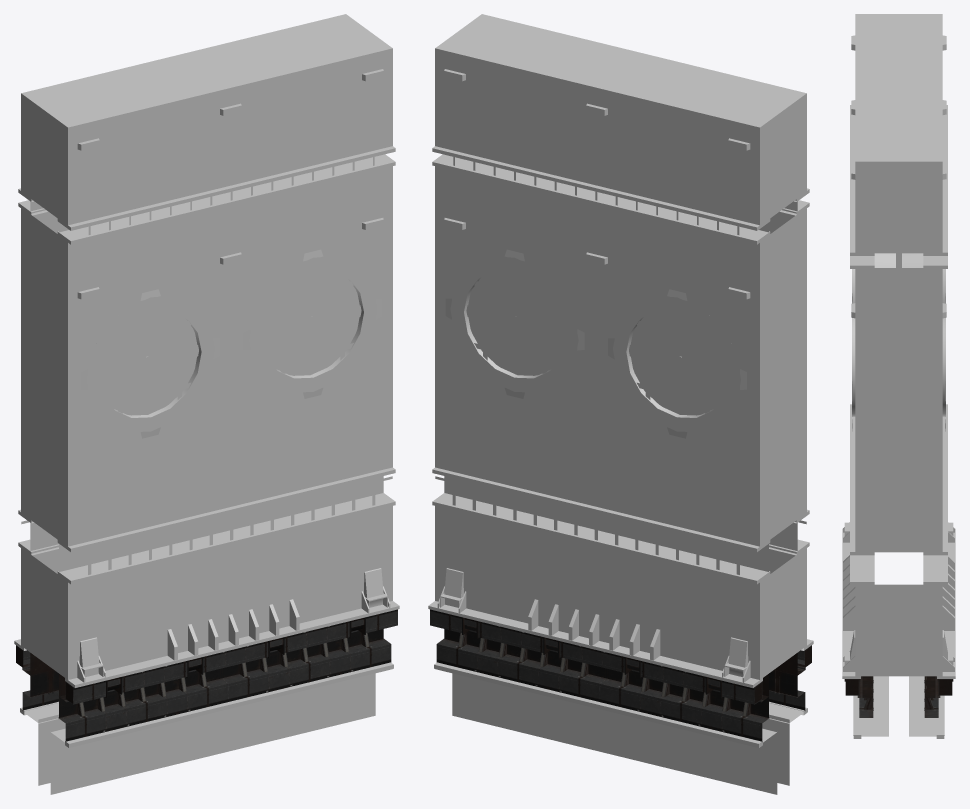
The model's file is Wall_Large_09_LOD2.fbx.
The picture shows the model from 3 angles, left to right: view 1: azimuth 30°, elevation 25°; view 2: azimuth 150°, elevation 25°; view 3: azimuth 270°, elevation 25°; orthographic projection. The views are drawn at different scales.
Visible parts, largest first — view 1: Concrete_Blocks, Element1, Element3, Element5, Vents, Grid, Element4; view 2: Concrete_Blocks, Element1, Element3, Element5, Vents, Grid, Element4; view 3: Concrete_Blocks, Element1, Element3, Vents, Element5, Element4.
Part boxes in pixels (box(x1,y1,x2,y2)): Concrete_Blocks: box(21, 14, 392, 679); Element1: box(14, 568, 399, 794); Element3: box(18, 146, 395, 584); Element5: box(16, 609, 397, 741); Vents: box(81, 249, 382, 438); Grid: box(101, 271, 359, 415); Element4: box(77, 69, 383, 299); Concrete_Blocks: box(435, 14, 806, 679); Element1: box(428, 568, 813, 794); Element3: box(432, 146, 809, 584); Element5: box(430, 609, 811, 741); Vents: box(445, 249, 746, 438); Grid: box(468, 271, 726, 415); Element4: box(444, 69, 750, 299); Concrete_Blocks: box(855, 14, 942, 676); Element1: box(842, 522, 955, 738); Element3: box(850, 105, 947, 585); Vents: box(852, 253, 945, 431); Element5: box(844, 676, 953, 717); Element4: box(851, 35, 946, 318).
Bounding box in the file's own units: 1604 × 3200 × 518.
